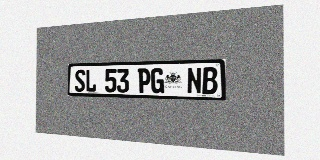3: (117, 69, 129, 93)
5: (105, 69, 117, 92)
B: (202, 67, 218, 94)
G: (151, 68, 164, 93)
L: (85, 69, 96, 92)
N: (187, 67, 202, 94)
P: (138, 68, 150, 93)
S: (75, 69, 85, 92)
